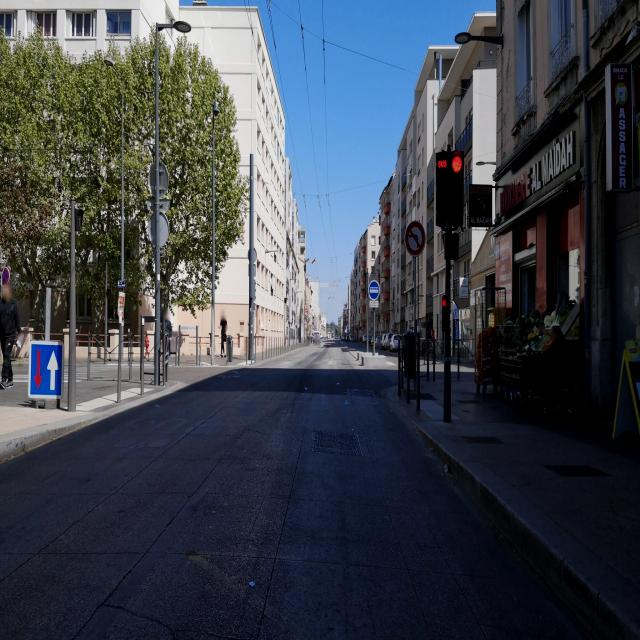car: (388, 331, 401, 352), (341, 331, 346, 341)
